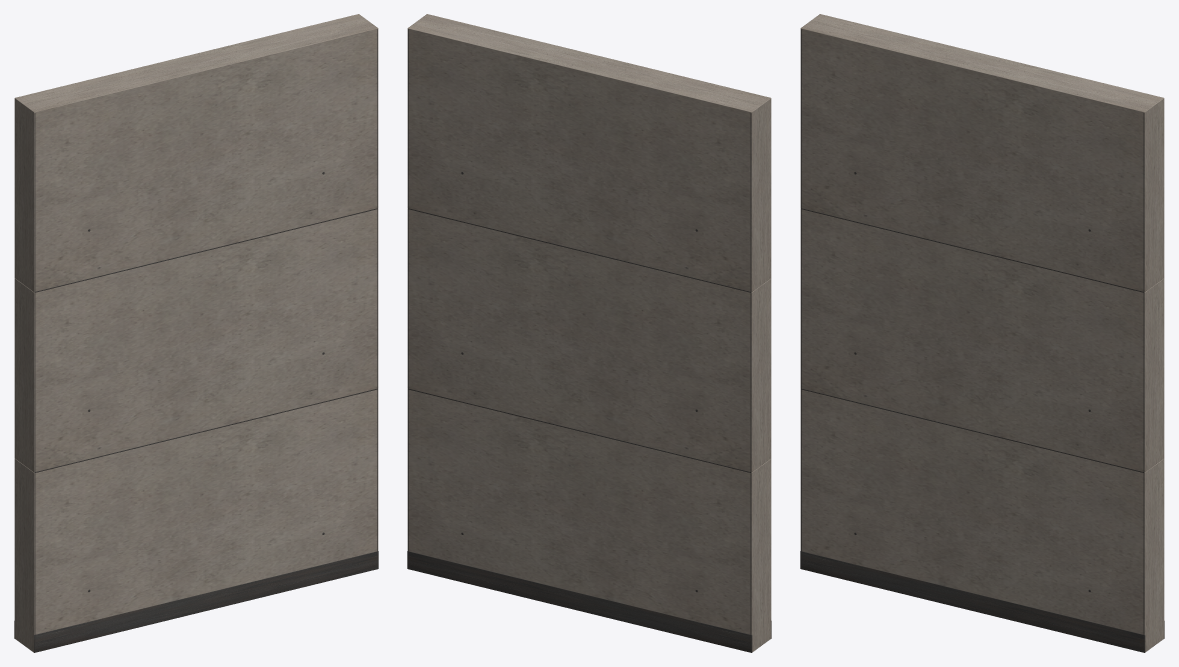
The model's file is SM_FacilityRooms_Wall200.fbx.
3 views of the same model, side by side, from view 1: azimuth 30°, elevation 25°; view 2: azimuth 150°, elevation 25°; view 3: azimuth 330°, elevation 25° (orthographic).
Parts seen in each view (by area): view 1: SM_FacilityRooms_Wall200; view 2: SM_FacilityRooms_Wall200; view 3: SM_FacilityRooms_Wall200.
Boxes of the visible parts, x1,y1,x2,y2 form: SM_FacilityRooms_Wall200: [14, 14, 378, 652]; SM_FacilityRooms_Wall200: [407, 14, 771, 652]; SM_FacilityRooms_Wall200: [800, 14, 1164, 652].
Size of what is drawn, in the model's own units: 200 by 20 by 300.
